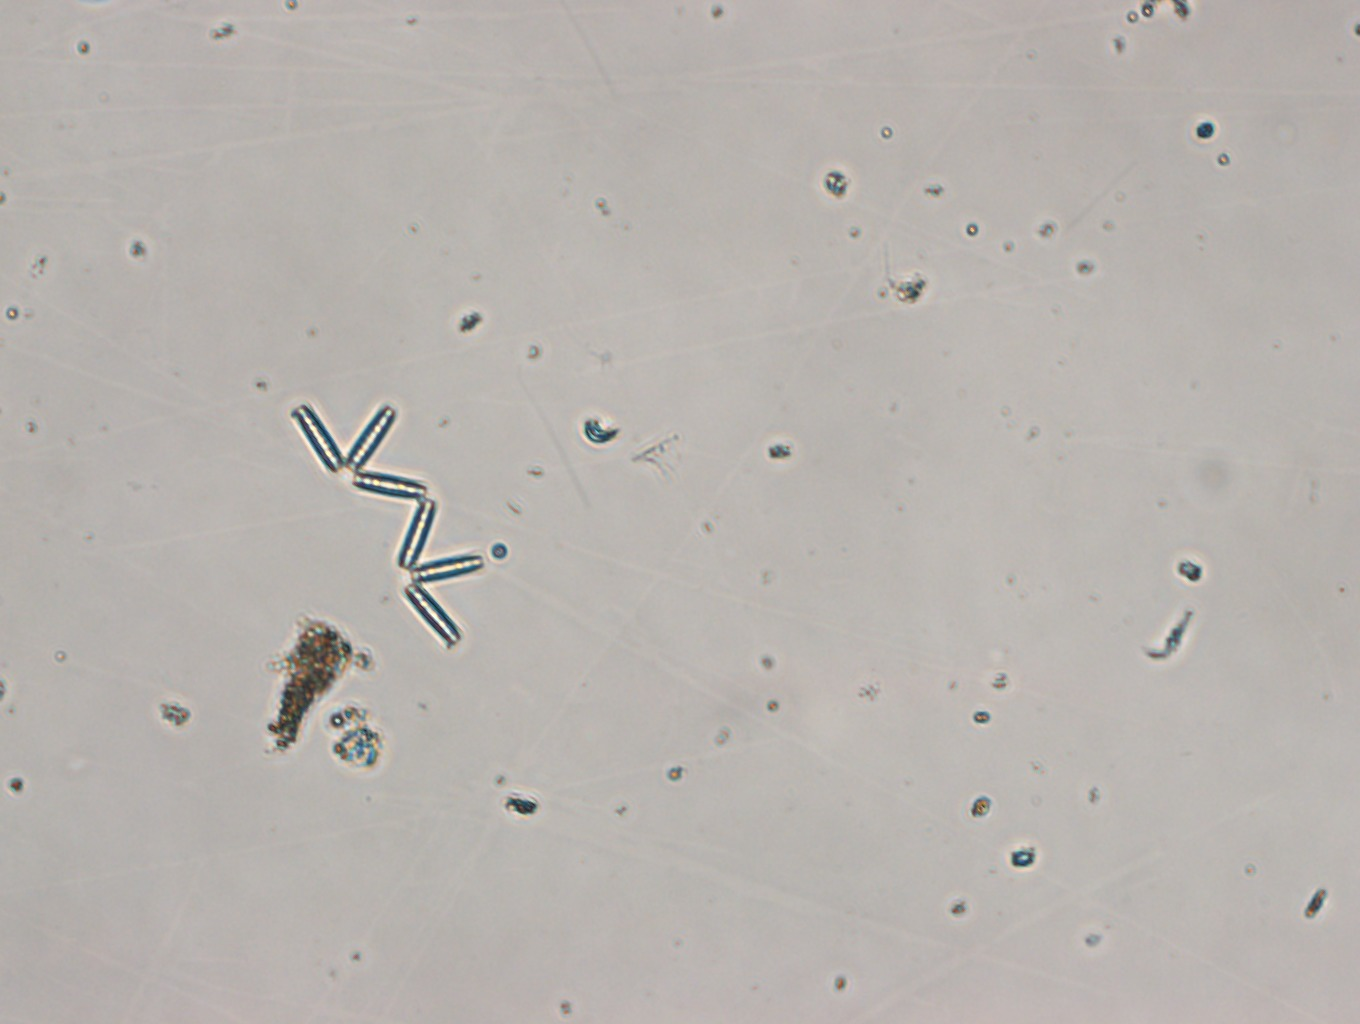thalassionema nitzschioides: (288, 400, 485, 643)
